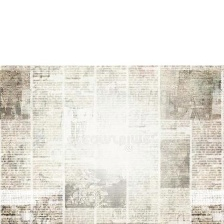news_paper: (0, 63, 224, 224)
